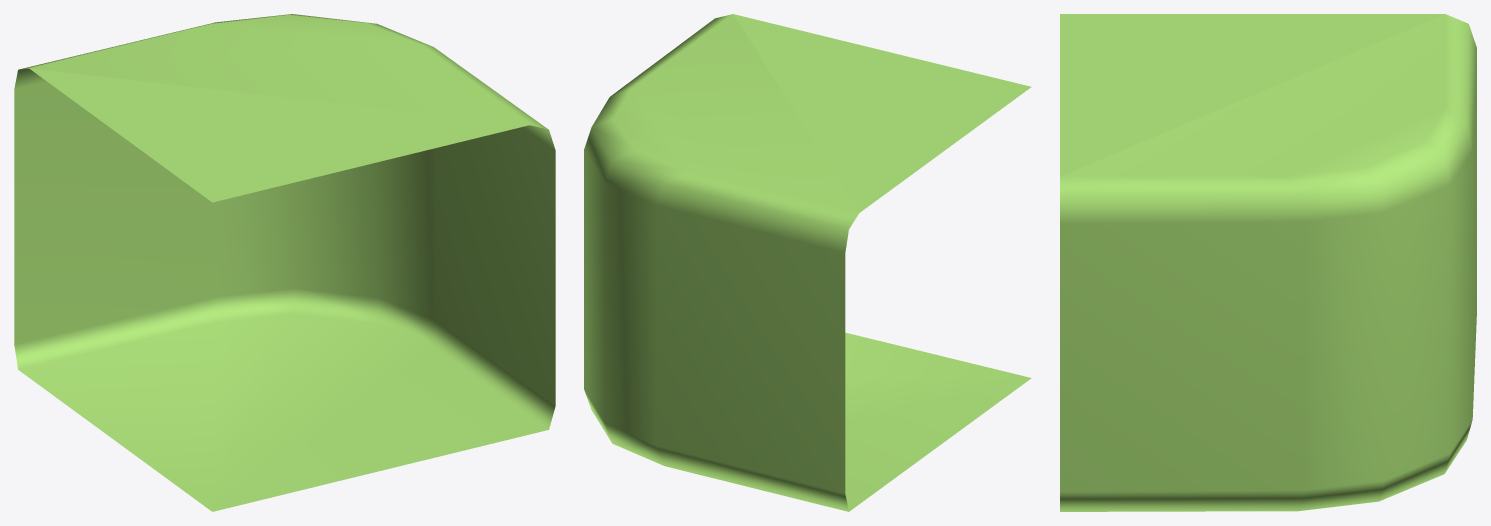
Rendered from Grass_Connect.fbx.
3 renders of one model, left to right at view 1: azimuth 30°, elevation 25°; view 2: azimuth 150°, elevation 25°; view 3: azimuth 270°, elevation 25°, orthographic. The views are drawn at different scales.
Visible parts, largest first — view 1: GrassConnect; view 2: GrassConnect; view 3: GrassConnect.
Part boxes in pixels (x1=…): GrassConnect: x1=14, y1=14, x2=555, y2=511; GrassConnect: x1=584, y1=14, x2=1031, y2=511; GrassConnect: x1=1060, y1=14, x2=1476, y2=511.
Size of the model in its own units: 1.13 by 0.9707 by 1.13.
